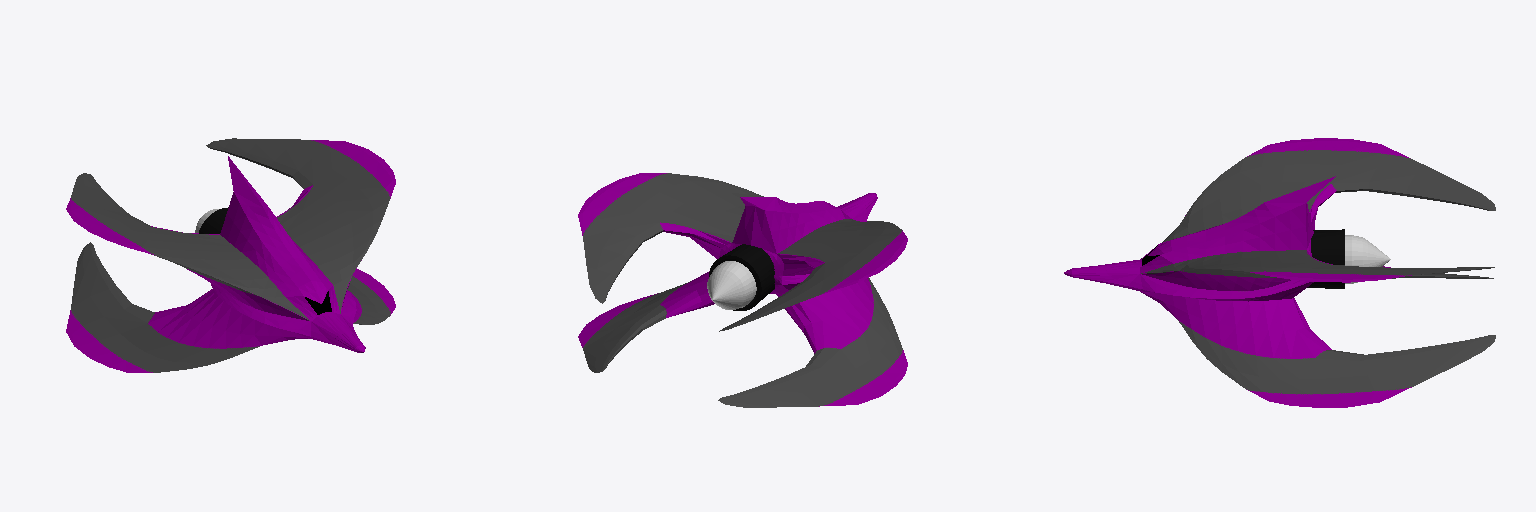
3 renders of one model, left to right at view 1: azimuth 30°, elevation 25°; view 2: azimuth 150°, elevation 25°; view 3: azimuth 270°, elevation 25°, orthographic.
Parts seen in each view (by area): view 1: GEO_EnemyV2_Low; view 2: GEO_EnemyV2_Low; view 3: GEO_EnemyV2_Low.
Boxes of the visible parts, <box> form: GEO_EnemyV2_Low: <box>66,138,395,372</box>; GEO_EnemyV2_Low: <box>578,173,907,407</box>; GEO_EnemyV2_Low: <box>1064,138,1495,407</box>.
Bounding box in the file's own units: 3.48 × 1.81 × 4.42.
2 materials, 1 textured.